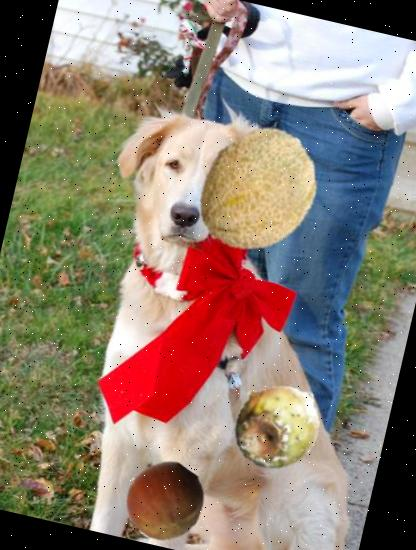Cactus: (220, 366, 332, 478)
Cantaloupe: (180, 112, 336, 269)
Nut: (117, 454, 212, 549)
